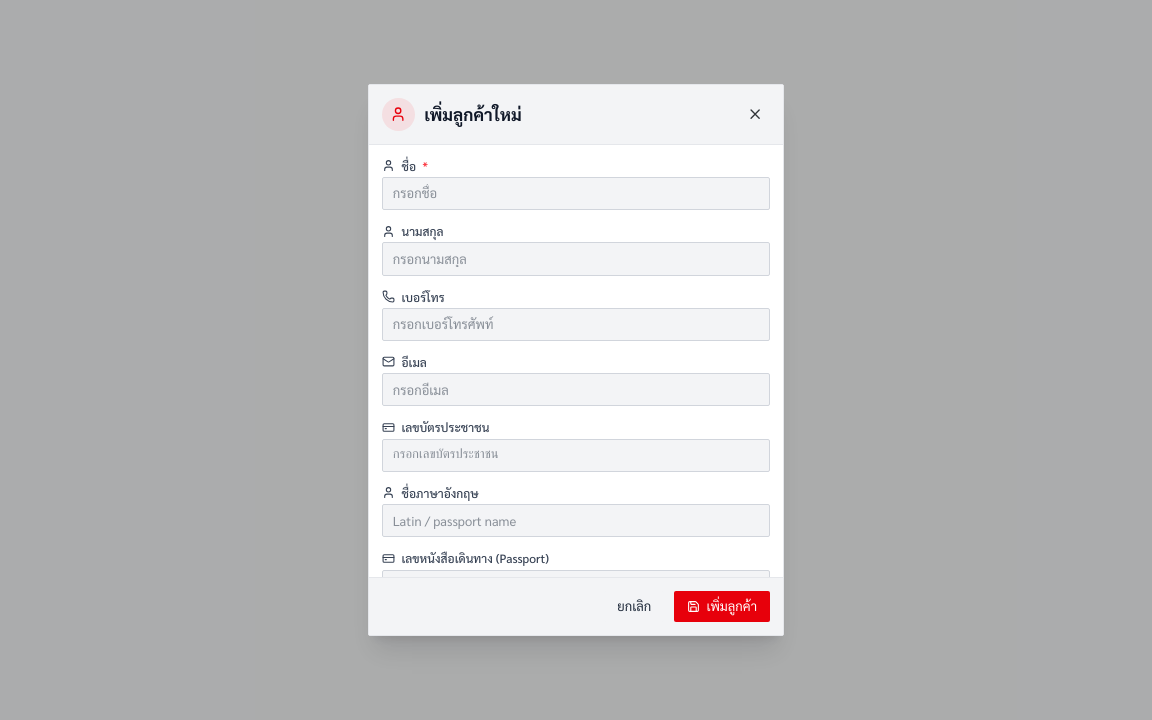
CustomerForm Component › Form Submission › shows generic error message when error is not an Error instance
Step 1. Type "Jane" into the field with placeholder "กรอกชื่อ" → (576, 194), box [382, 177, 770, 210]
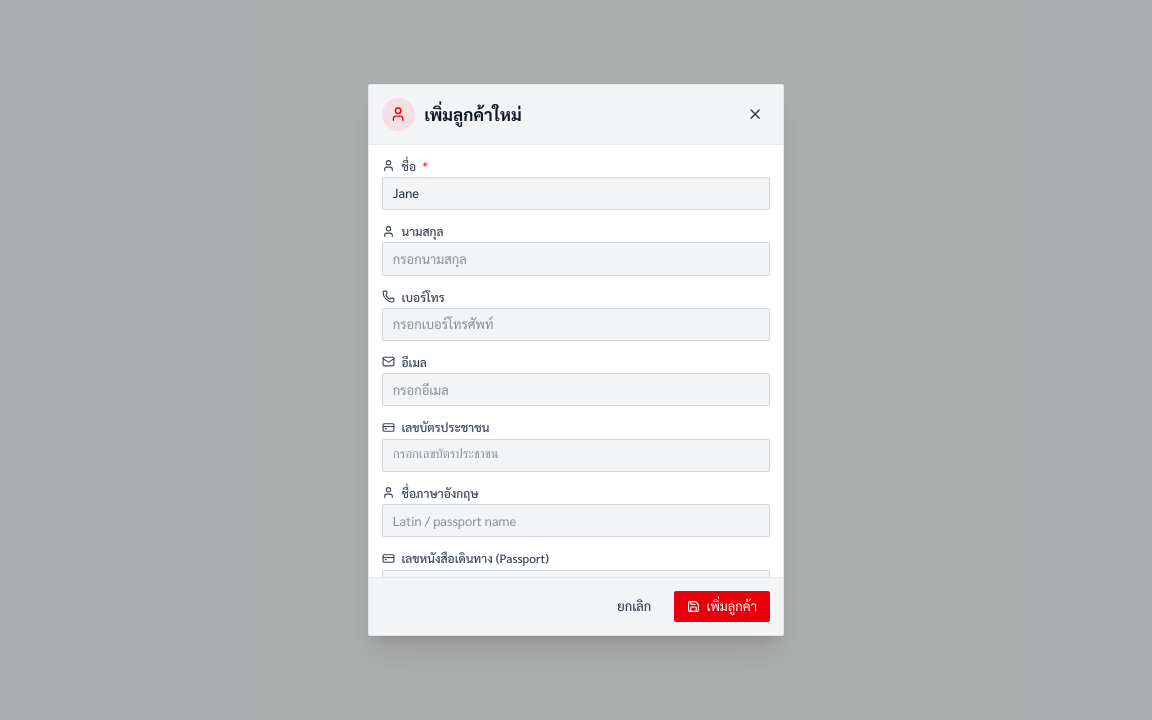
Step 2. Click the button "เพิ่มลูกค้า" → (722, 606), box [674, 591, 770, 622]
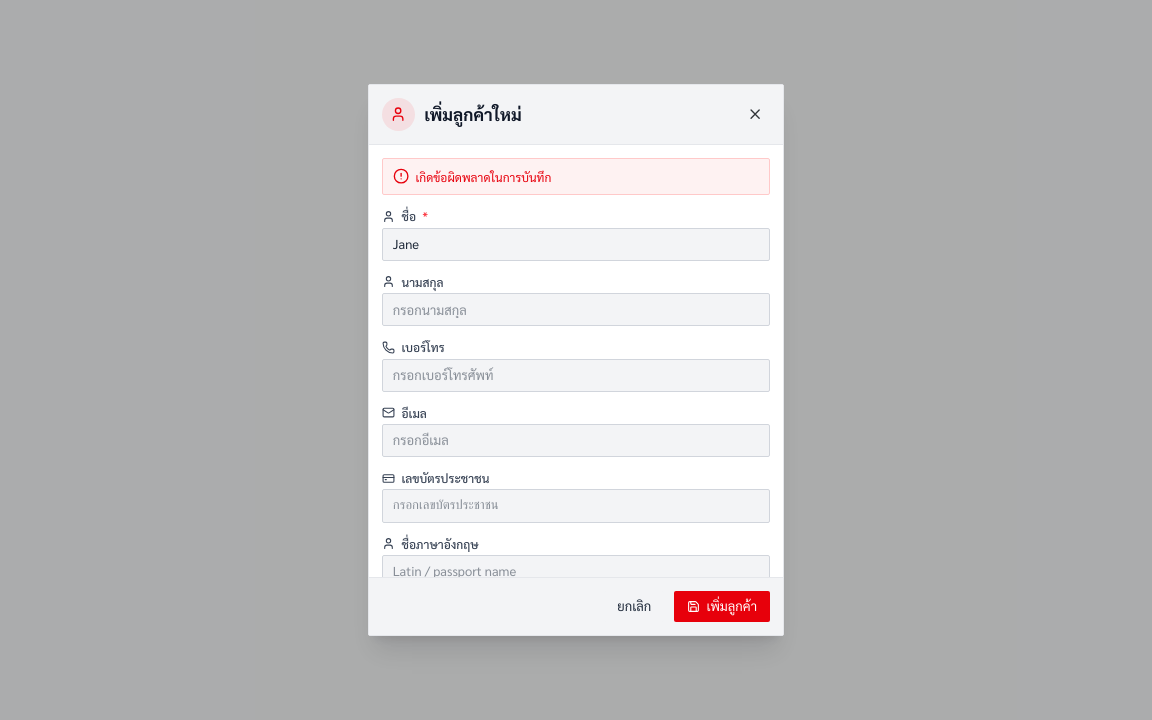
Result: the text "เกิดข้อผิดพลาดในการบันทึก" is shown at [416, 168, 551, 184]
